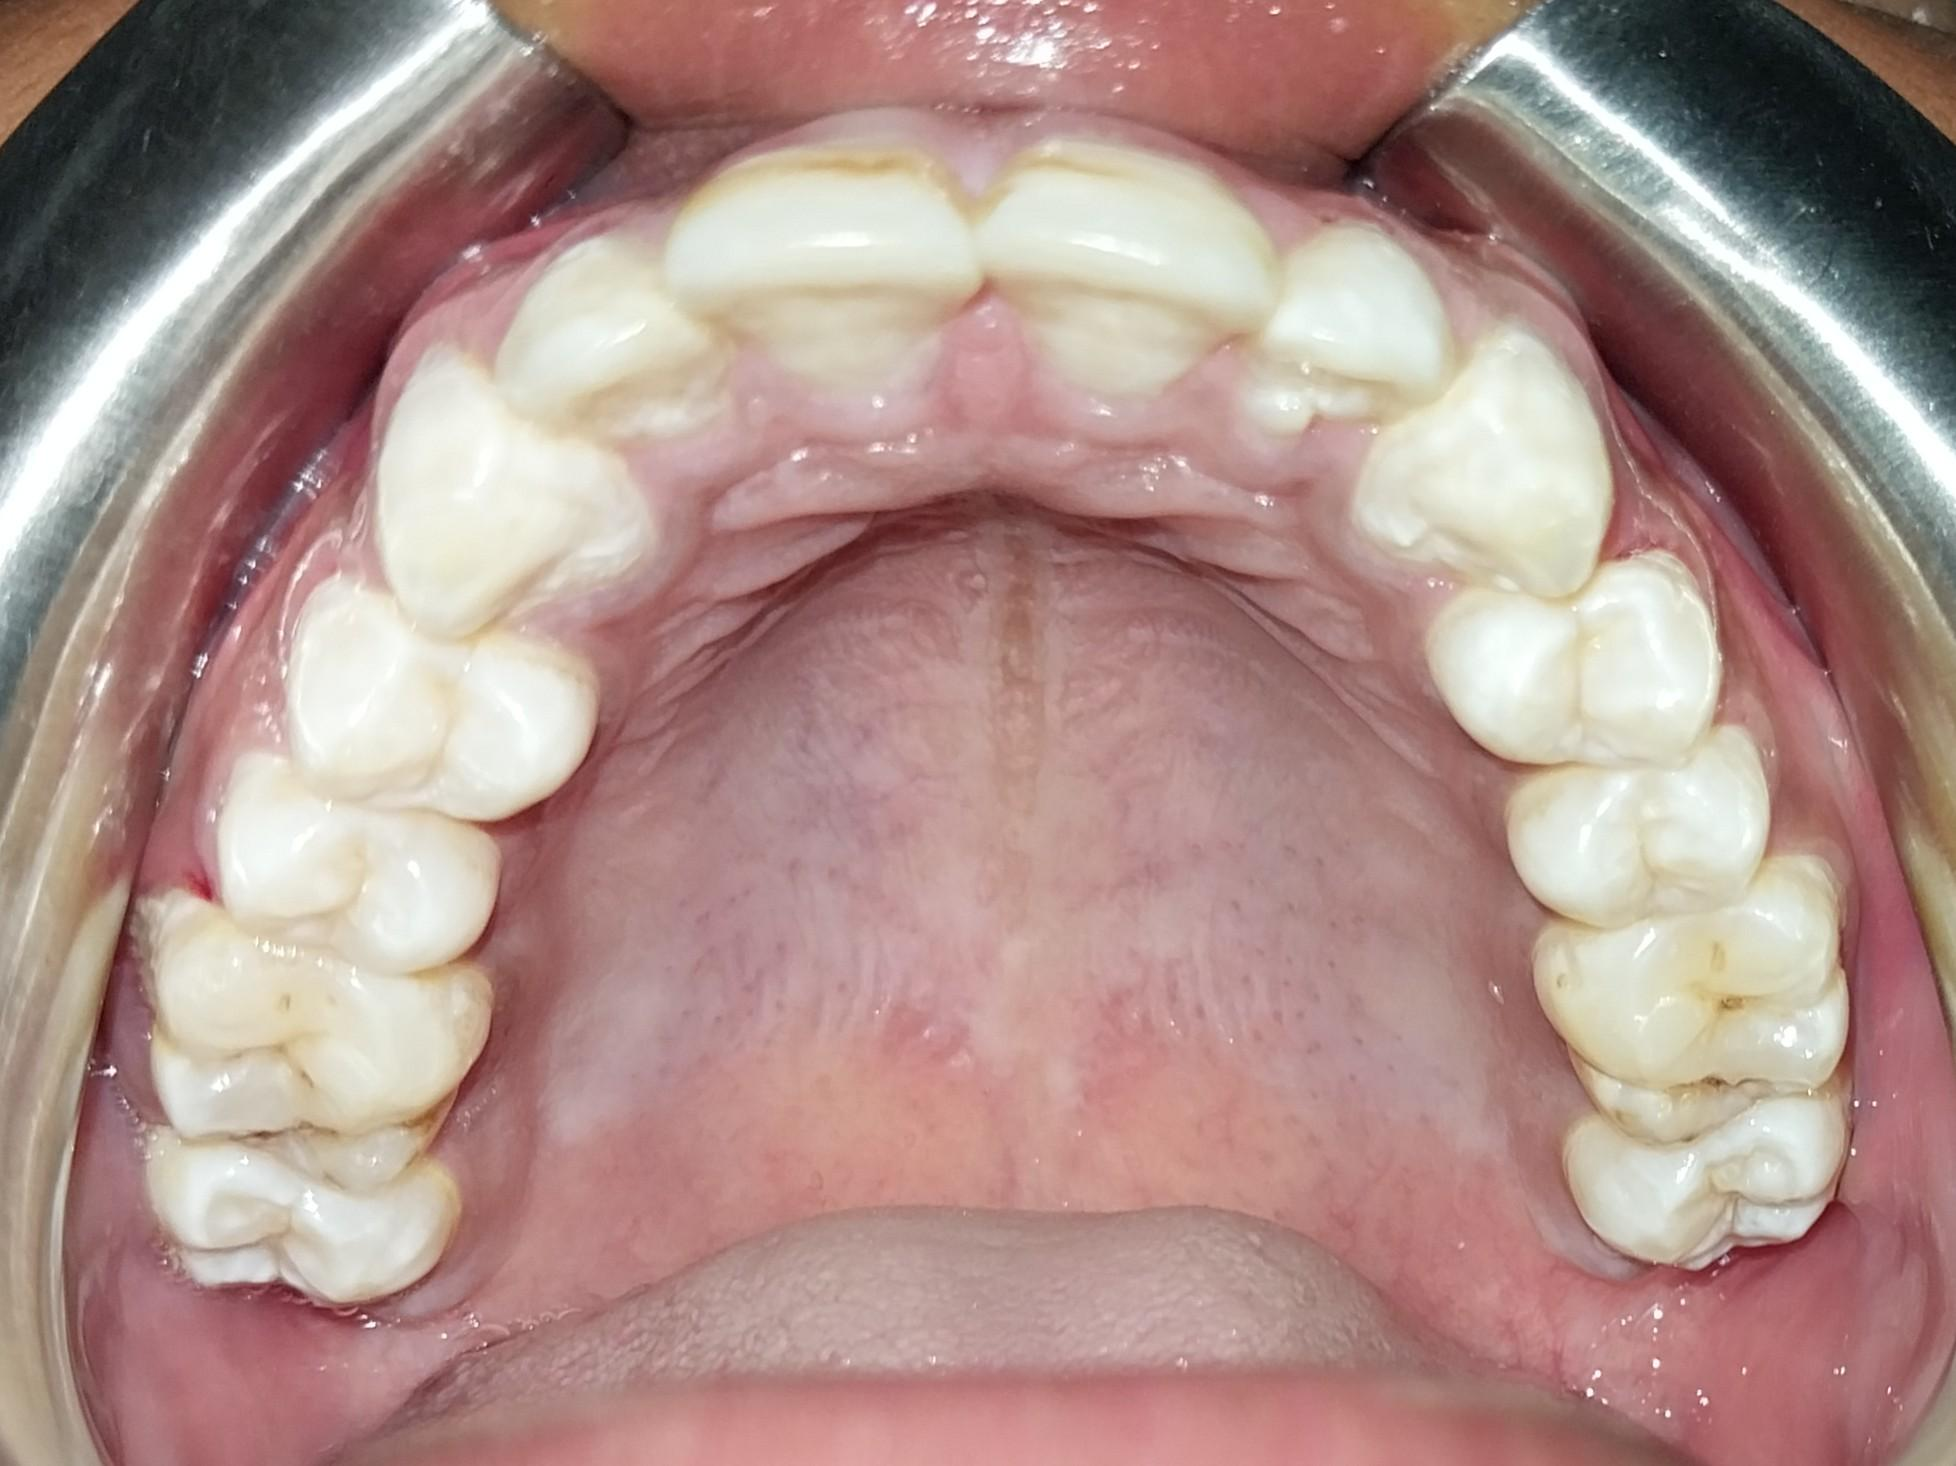D: (140, 888, 483, 1190), (1533, 903, 1845, 1143)
